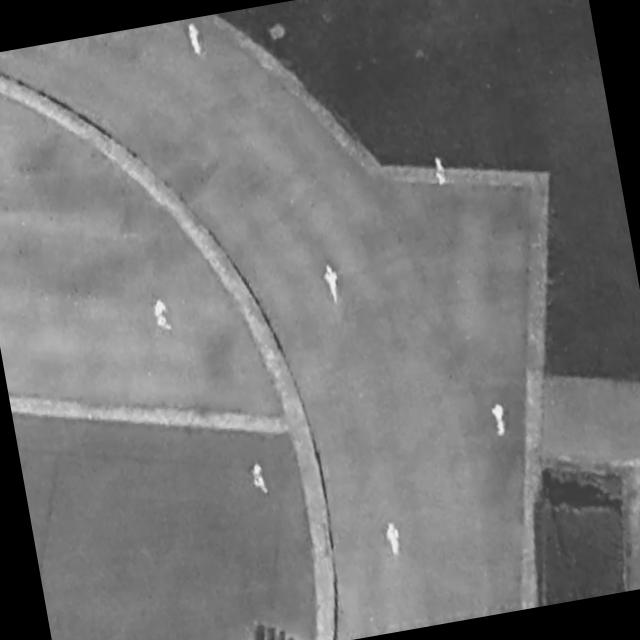person: (148, 293, 174, 336), (321, 264, 344, 305), (429, 152, 452, 190), (184, 21, 205, 58), (384, 521, 404, 559), (489, 402, 509, 438), (249, 462, 269, 497)
